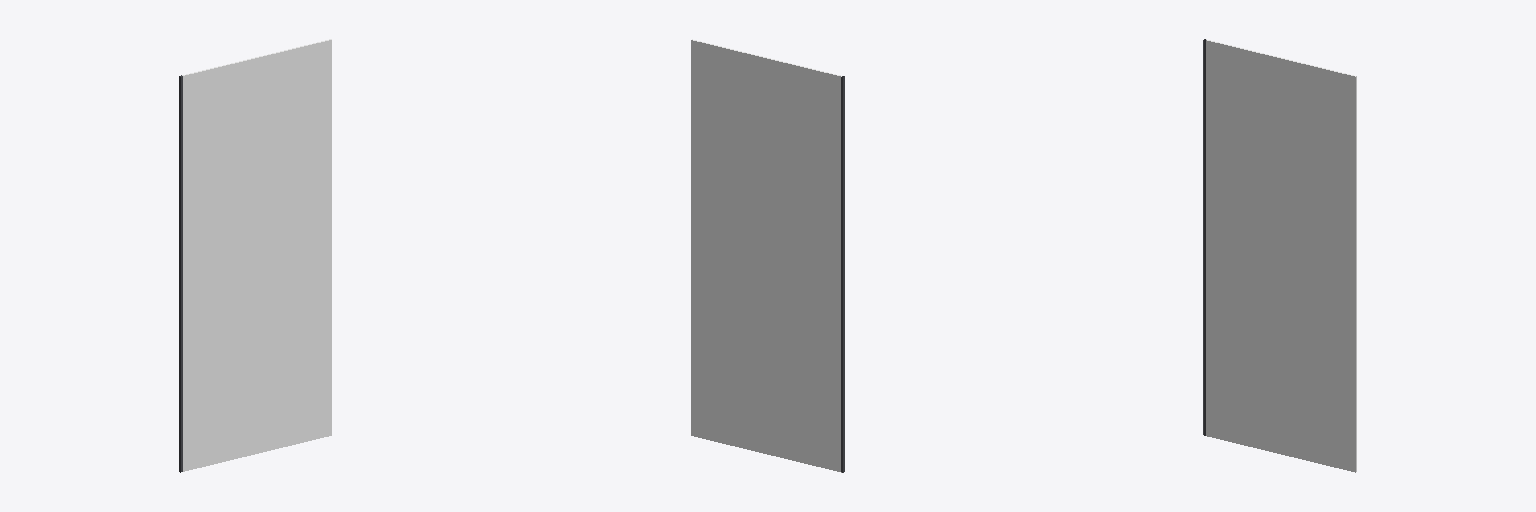
Rendered from Dusche_Rueckwand.obj.
The picture shows the model from 3 angles: view 1: azimuth 30°, elevation 25°; view 2: azimuth 150°, elevation 25°; view 3: azimuth 330°, elevation 25°; orthographic projection.
Visible parts, largest first — view 1: Mesh4 Component_736 G_13_Dusche_R_ckwand_dwg1 Model, Mesh1 Component_735 G_13_Dusche_R_ckwand_dwg1 Model; view 2: Mesh4 Component_736 G_13_Dusche_R_ckwand_dwg1 Model, Mesh1 Component_735 G_13_Dusche_R_ckwand_dwg1 Model; view 3: Mesh4 Component_736 G_13_Dusche_R_ckwand_dwg1 Model, Mesh1 Component_735 G_13_Dusche_R_ckwand_dwg1 Model.
Boxes of the visible parts, x1,y1,x2,y2 form: Mesh4 Component_736 G_13_Dusche_R_ckwand_dwg1 Model: [182, 39, 331, 471]; Mesh1 Component_735 G_13_Dusche_R_ckwand_dwg1 Model: [179, 75, 182, 472]; Mesh4 Component_736 G_13_Dusche_R_ckwand_dwg1 Model: [691, 39, 841, 472]; Mesh1 Component_735 G_13_Dusche_R_ckwand_dwg1 Model: [841, 76, 844, 472]; Mesh4 Component_736 G_13_Dusche_R_ckwand_dwg1 Model: [1206, 39, 1356, 472]; Mesh1 Component_735 G_13_Dusche_R_ckwand_dwg1 Model: [1203, 39, 1205, 435].
Bounding box in the file's own units: 92.79 × 230 × 1.7.